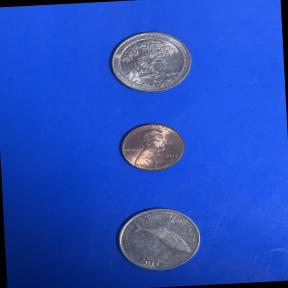coin: (109, 201, 210, 278), (102, 26, 198, 100), (114, 120, 189, 175)
